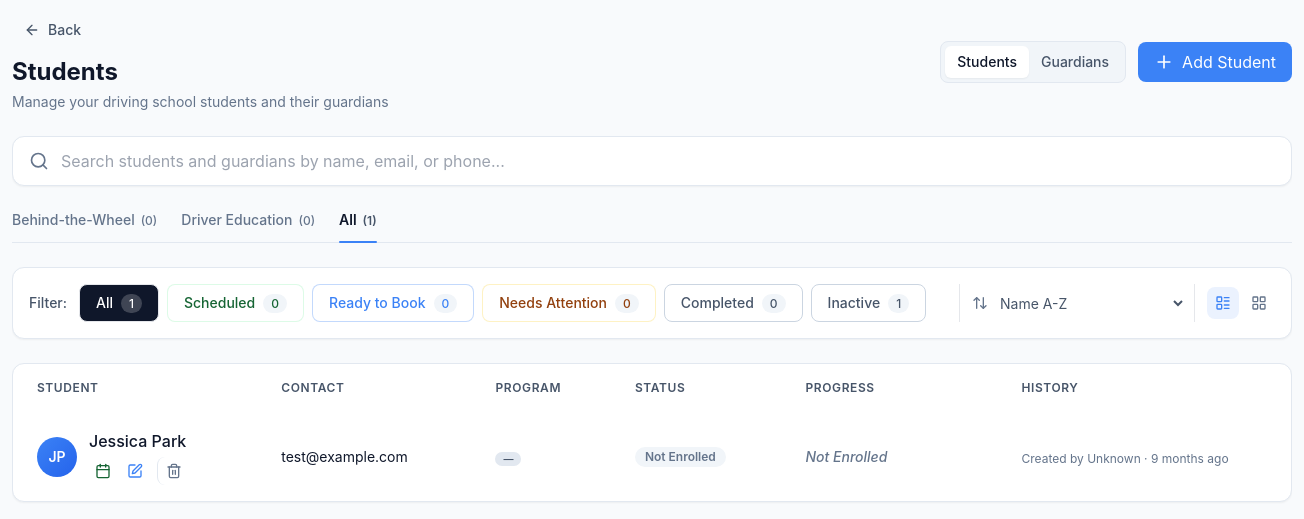
Test: Students page - unified search › hides the status filter chips while searching
The width and height of the screenshot is (1304, 519).
Expected: the text "Jessica Park" is shown, [89, 429, 186, 453]
Expected: the button "All1" is shown, [79, 284, 159, 322]
Type "xyz" into the field with placeholder "Search students and guardians by name, email, or phone...". click: (668, 161)
box: [61, 149, 1275, 173]
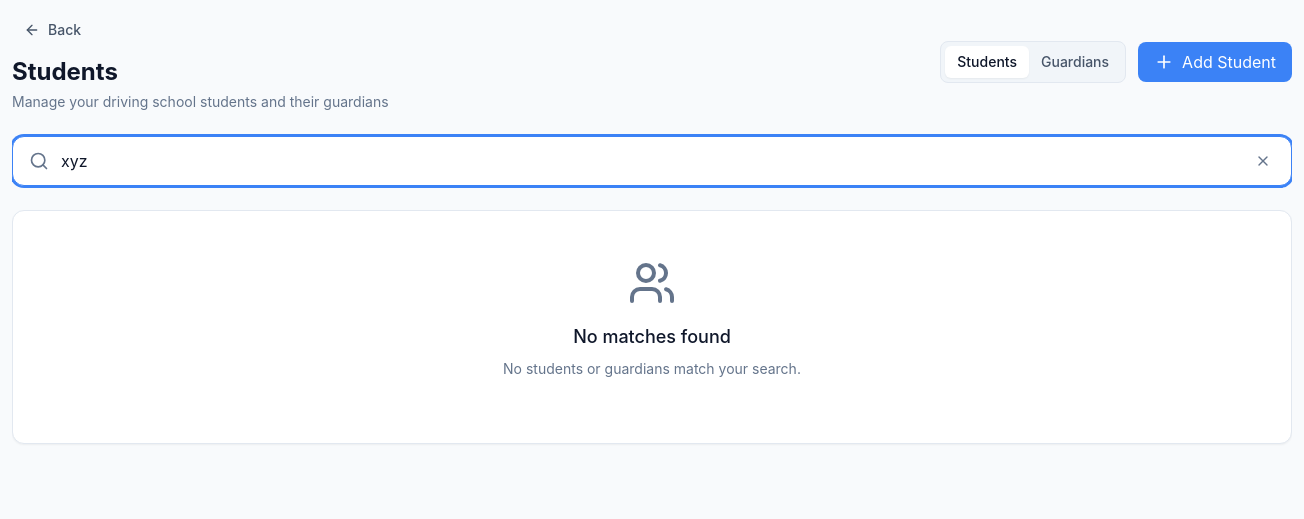
Result: the tab "All" is gone
